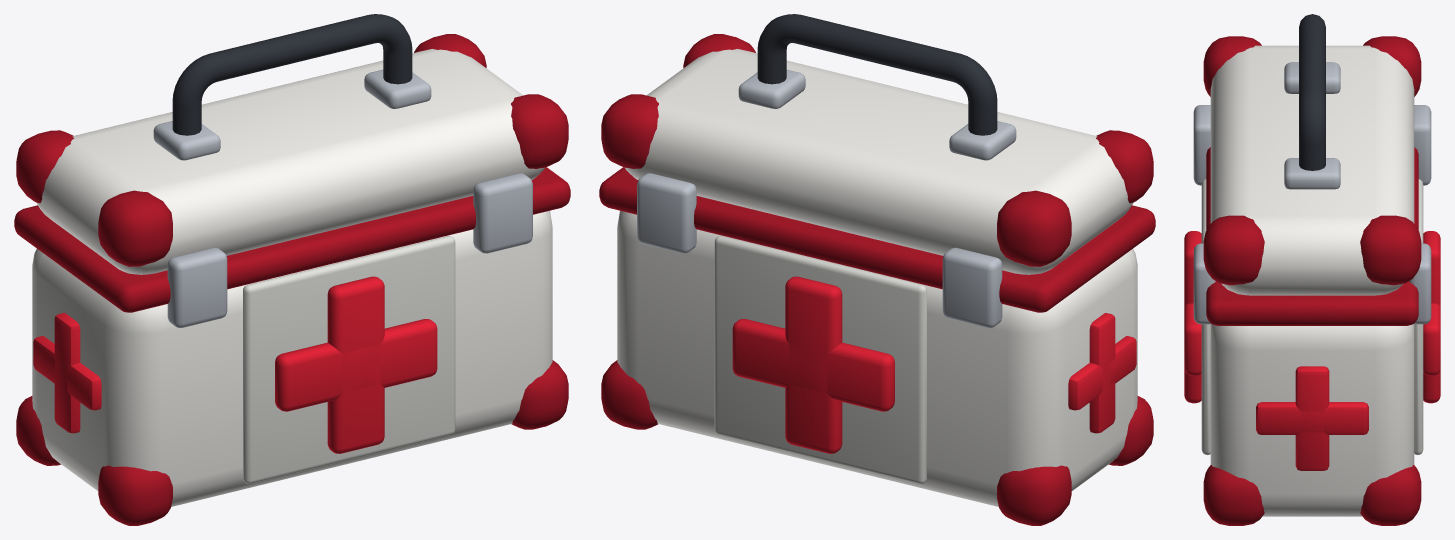
Rendered from health-pack.glb.
3 views of the same model, side by side, from view 1: azimuth 30°, elevation 25°; view 2: azimuth 150°, elevation 25°; view 3: azimuth 270°, elevation 25° (orthographic). The views are drawn at different scales.
Parts seen in each view (by area): view 1: HealthPack; view 2: HealthPack; view 3: HealthPack.
Boxes of the visible parts, x1=… form: HealthPack: x1=14, y1=14, x2=570, y2=525; HealthPack: x1=599, y1=14, x2=1155, y2=525; HealthPack: x1=1184, y1=14, x2=1440, y2=525.
Size of the model in its own units: 0.878 by 0.7365 by 0.454.
